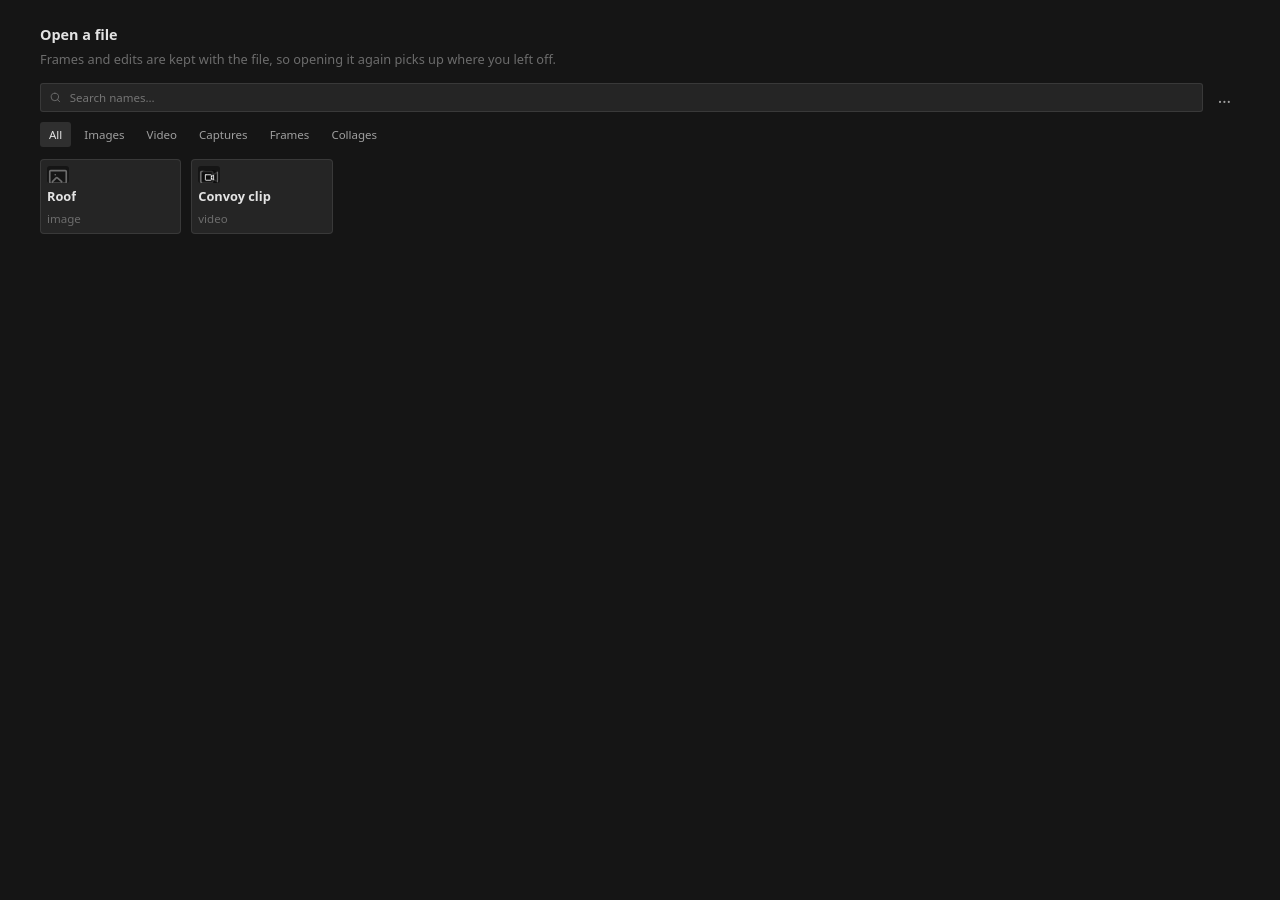
it: leaving a file › opens another file from the header without going back to the list
The image size is (1280, 900).
Click the button "Roof image" at (111, 197), box left=40, top=159, right=181, bottom=234
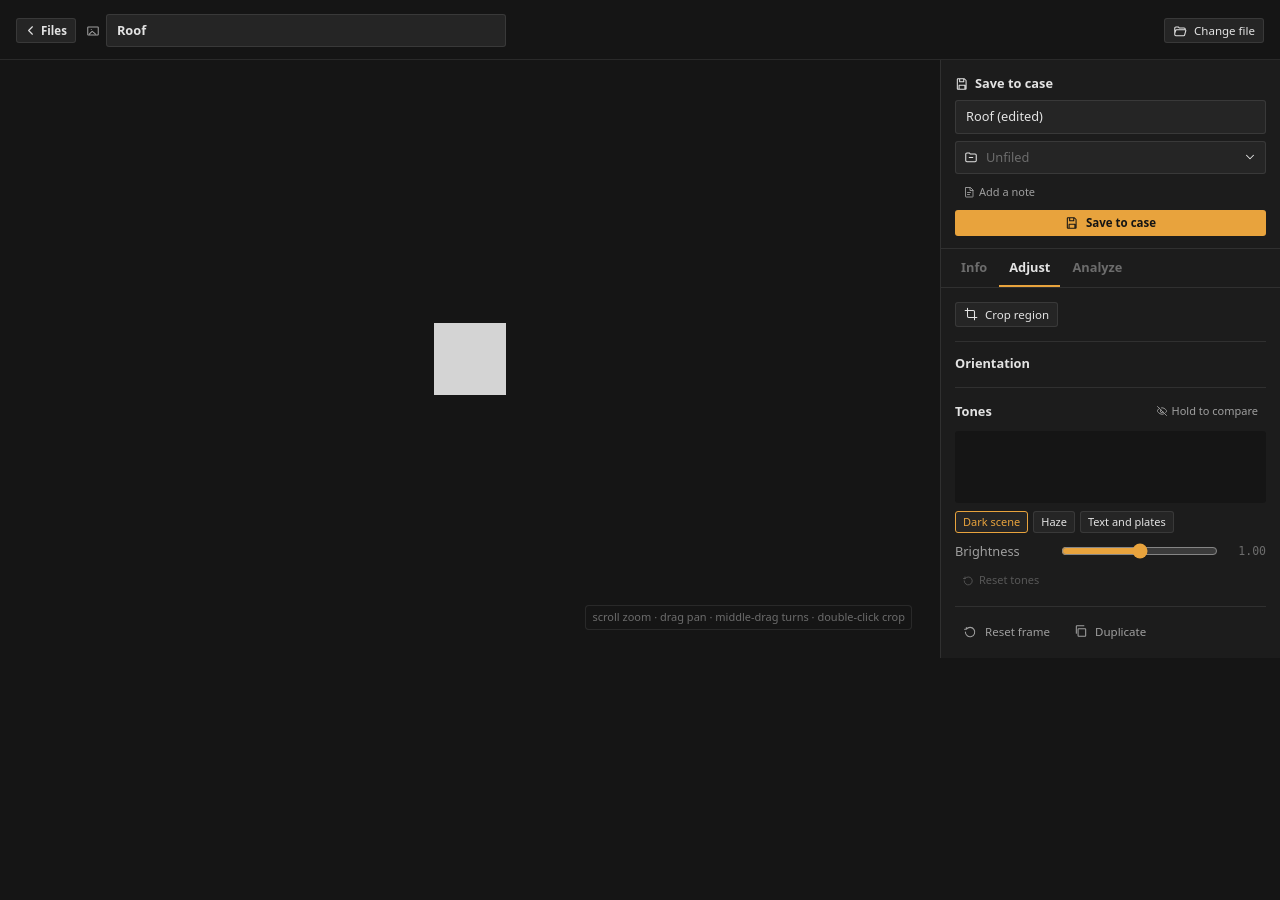
Click the button "Change file" at (1214, 31), box left=1164, top=18, right=1264, bottom=43
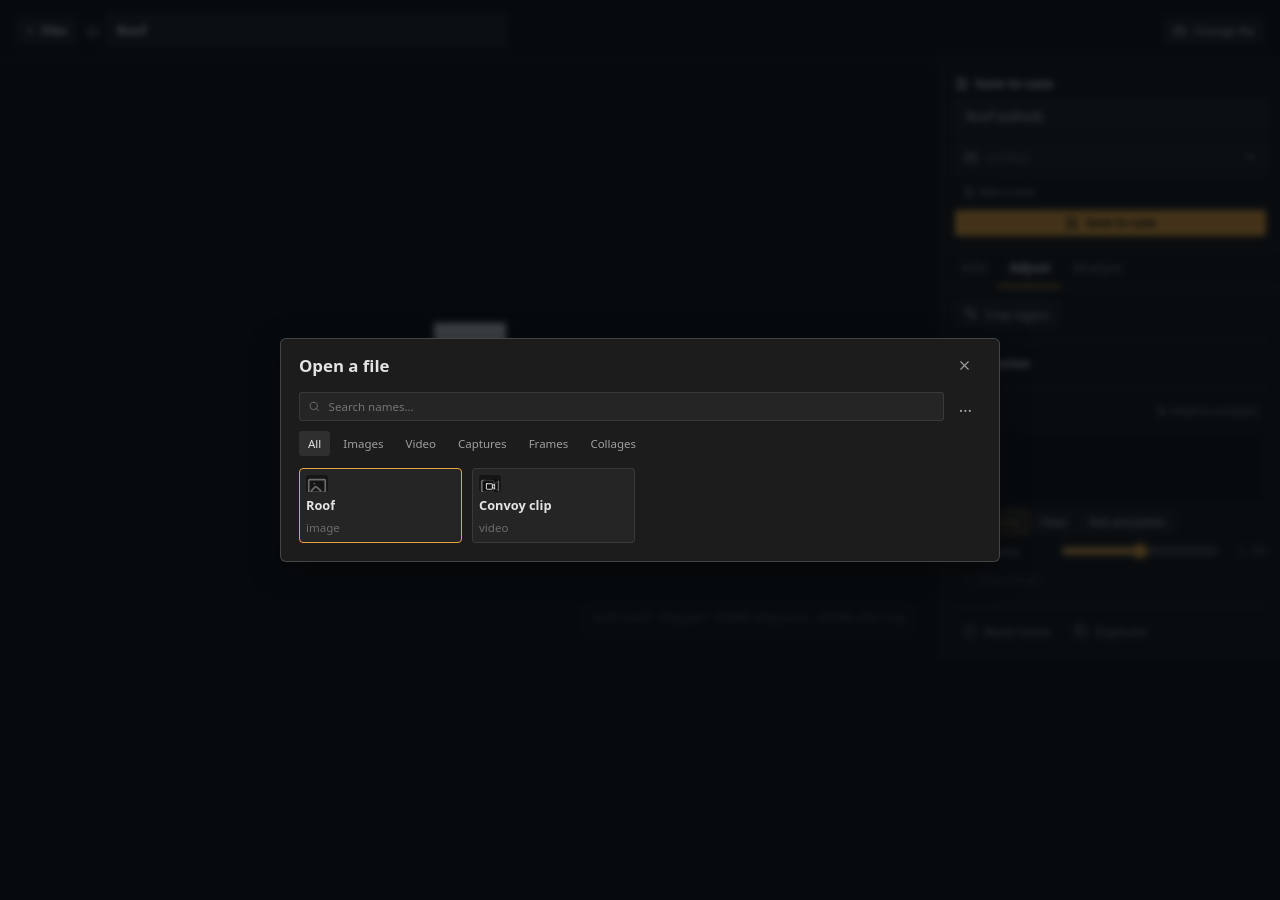
Click the button "Convoy clip video" at (554, 506), box left=472, top=468, right=635, bottom=543
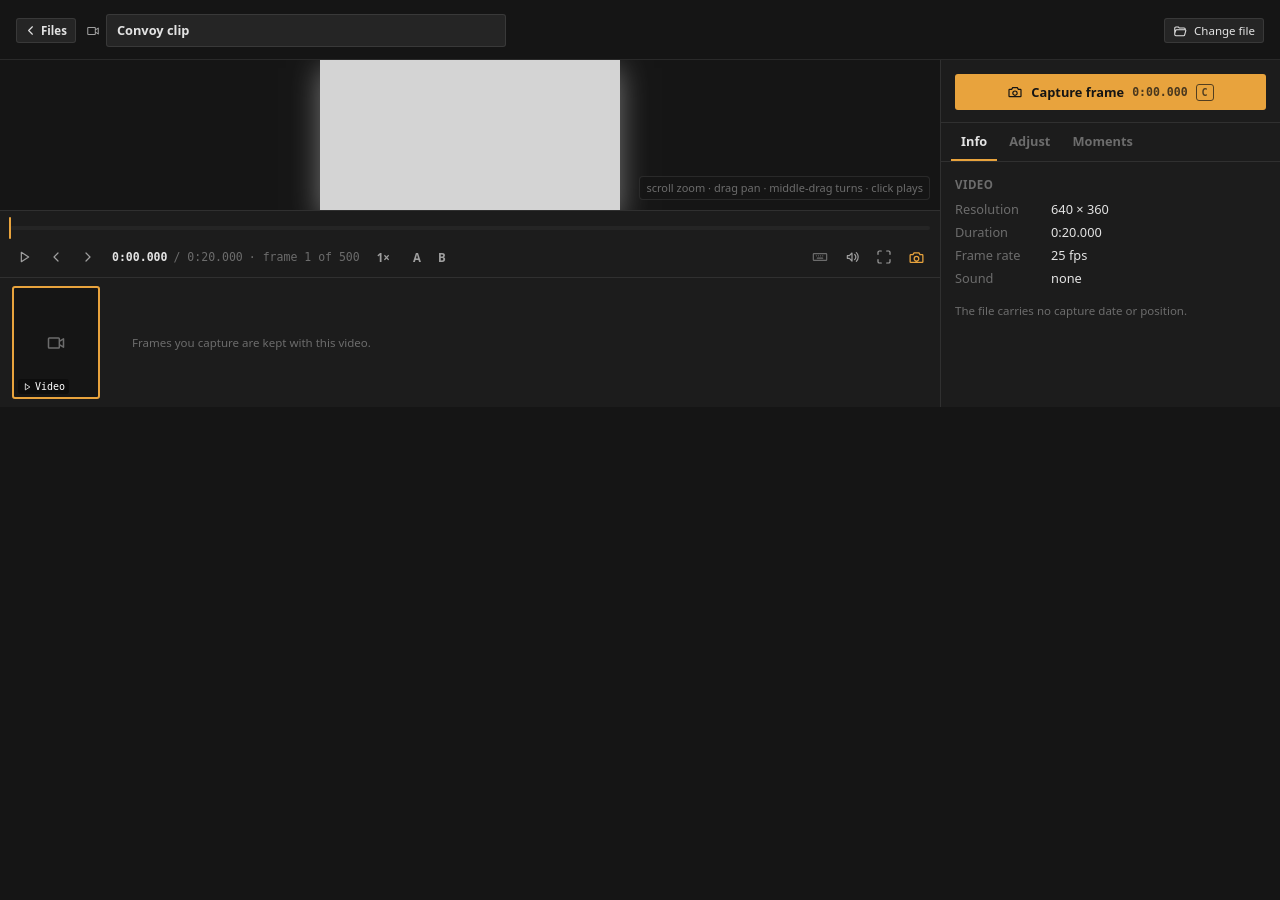
Check: the field with class "file-name" holds "Convoy clip", box left=106, top=14, right=506, bottom=47
Check: the dialog is gone
